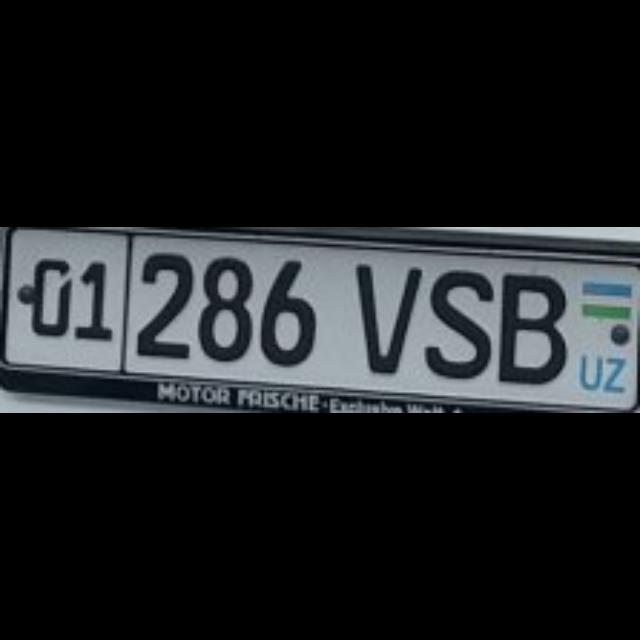0: (26, 253, 62, 333)
1: (72, 256, 108, 336)
2: (133, 247, 190, 353)
6: (255, 256, 312, 362)
8: (194, 252, 250, 356)
B: (493, 267, 562, 379)
S: (418, 264, 488, 374)
V: (350, 259, 416, 371)
